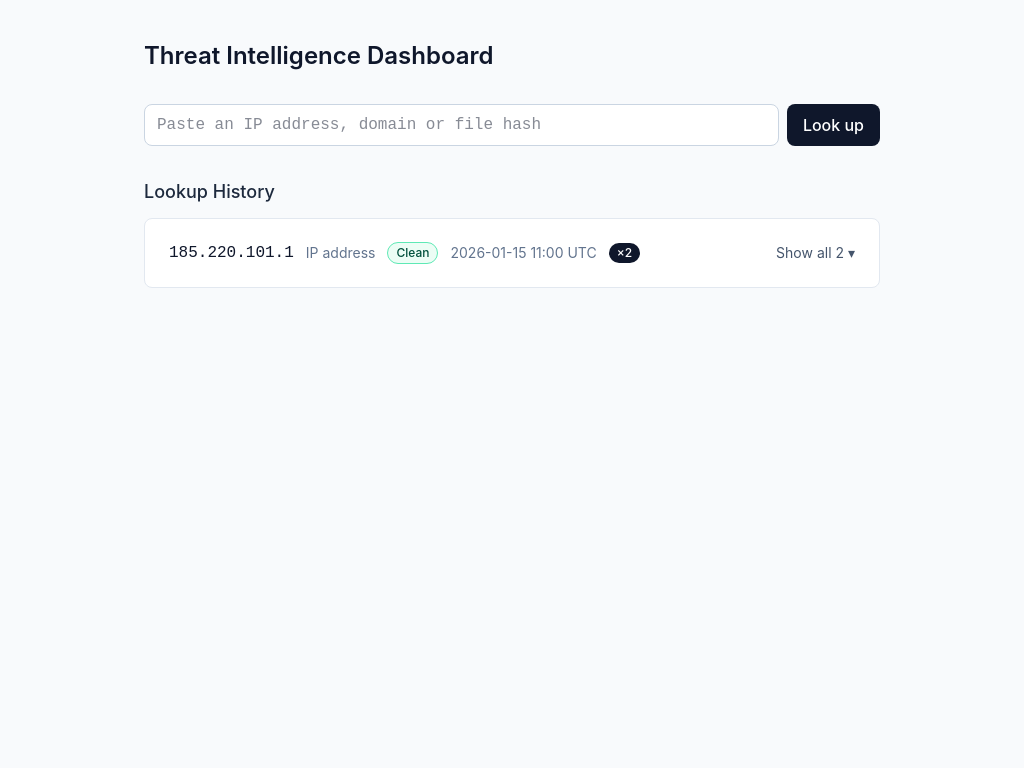
Scenario: a past Lookup with newer Source Results shows a banner with the newer Verdict and when it was reached
Click the button with aria-label "Show all 2 Lookups of 185.220.101.1" at (816, 253), box 768,237 -> 863,269
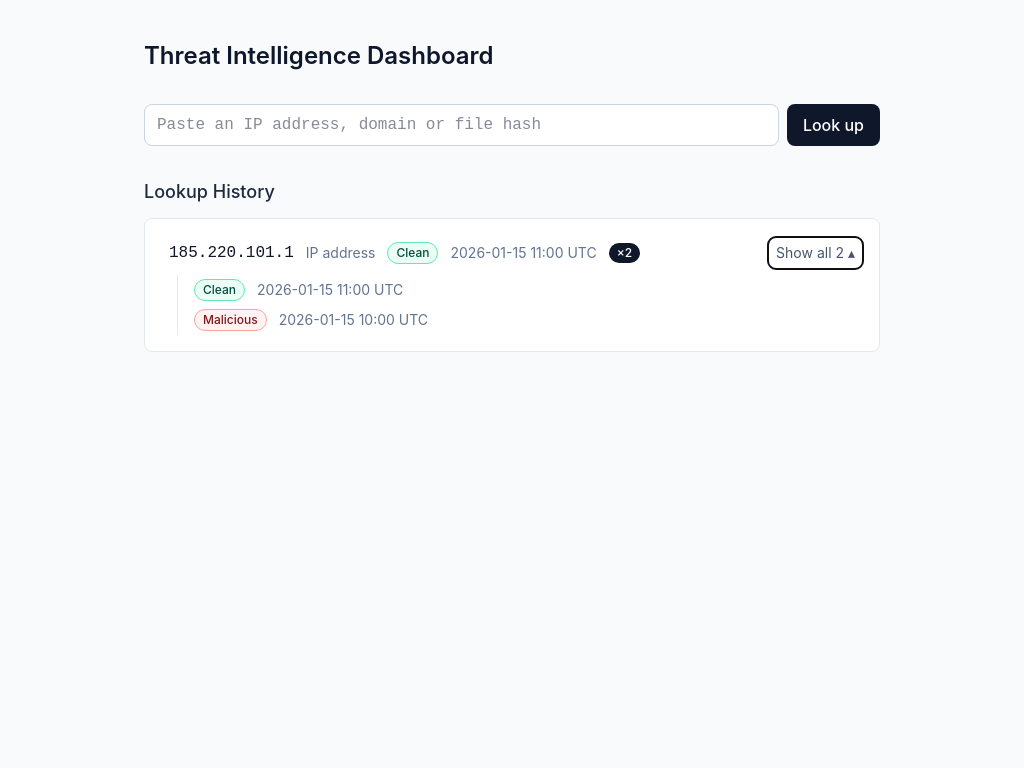
Click the button "Malicious 2026-01-15 10:00 UTC" at (311, 320), box 186,305 -> 436,335
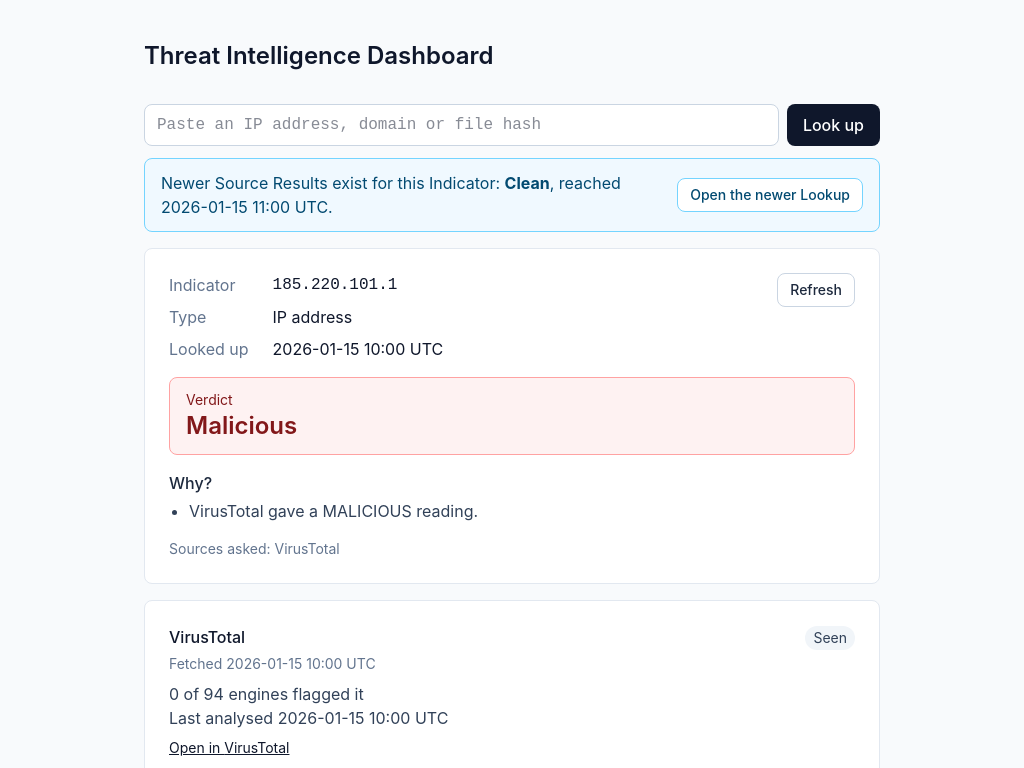
Check: the element "Newer Source Results" shows "Newer Source Results exist for this Indicator", box 161,173 -> 505,193
Check: the element "Newer Source Results" shows "Clean", box 505,173 -> 550,193
Check: the element "Newer Source Results" shows "2026-01-15 11:00 UTC", box 161,197 -> 328,217
